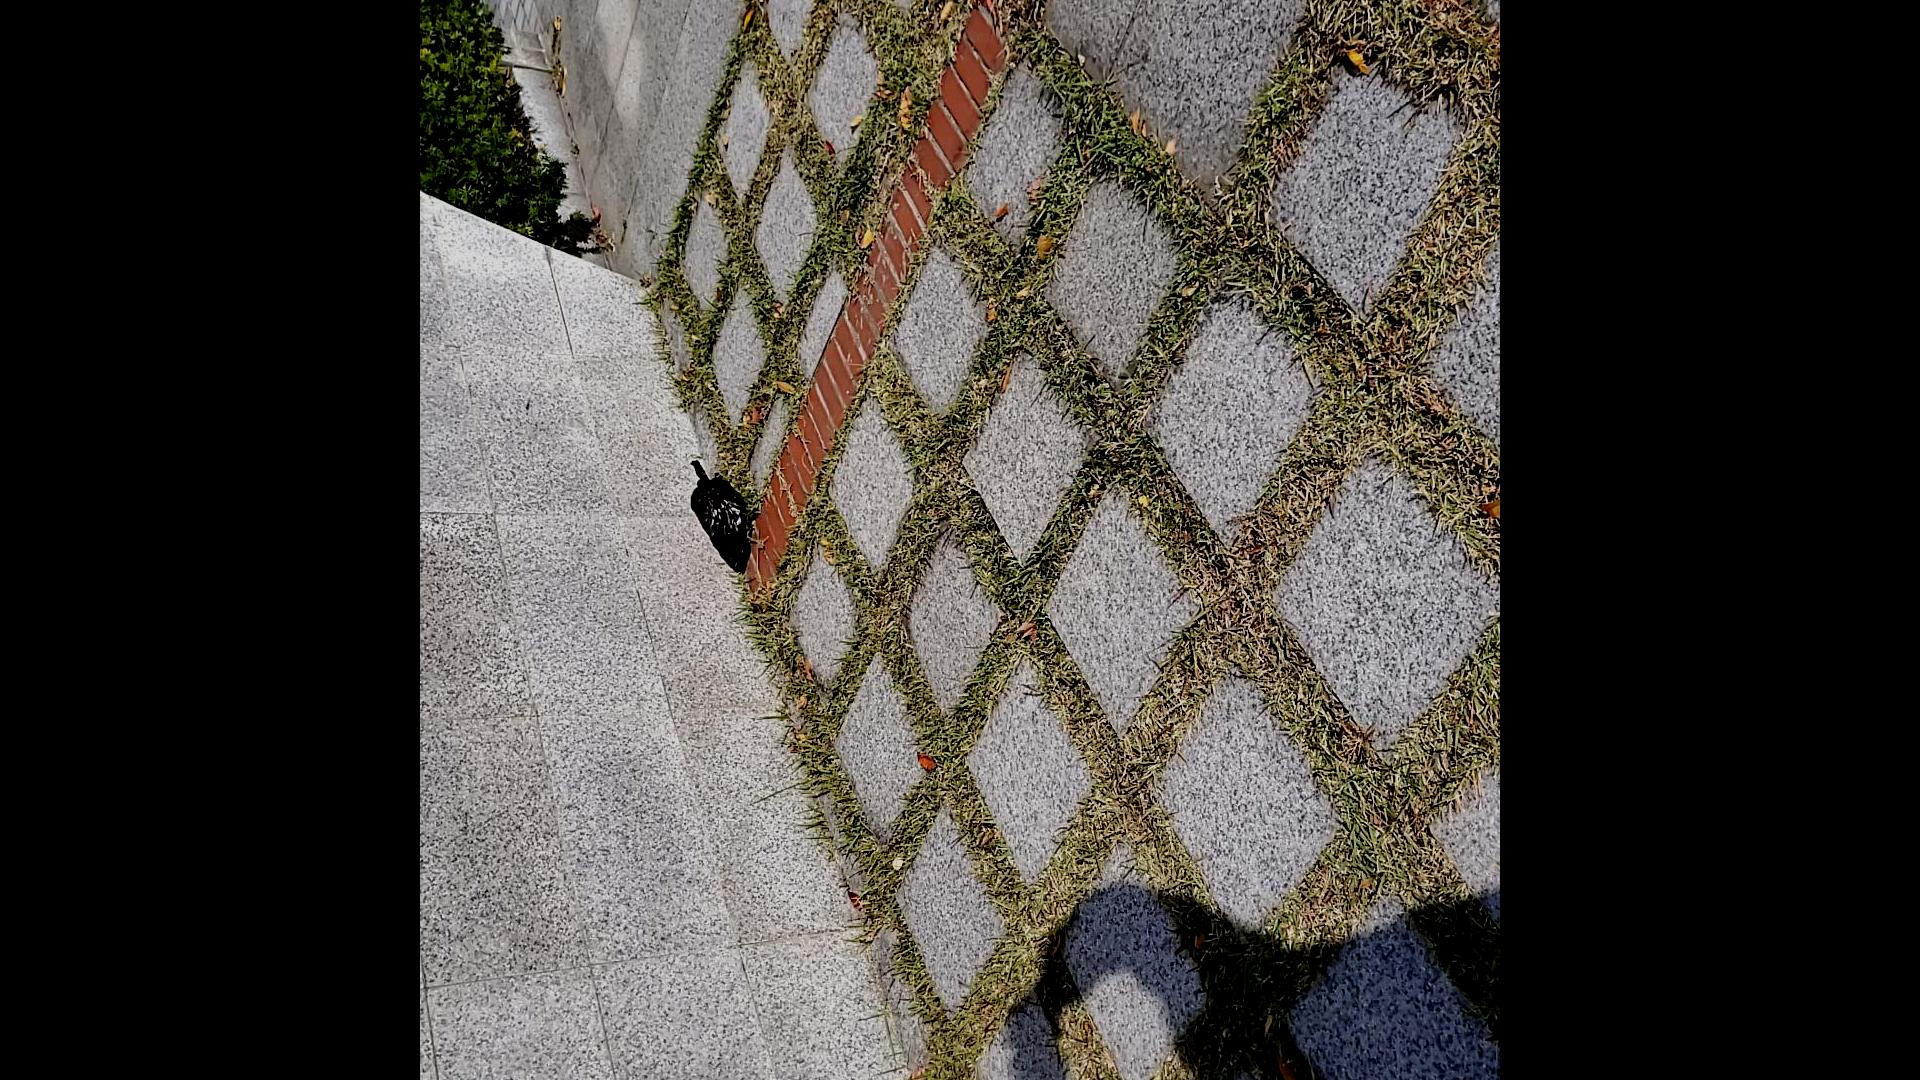black_bag: (686, 455, 756, 580)
